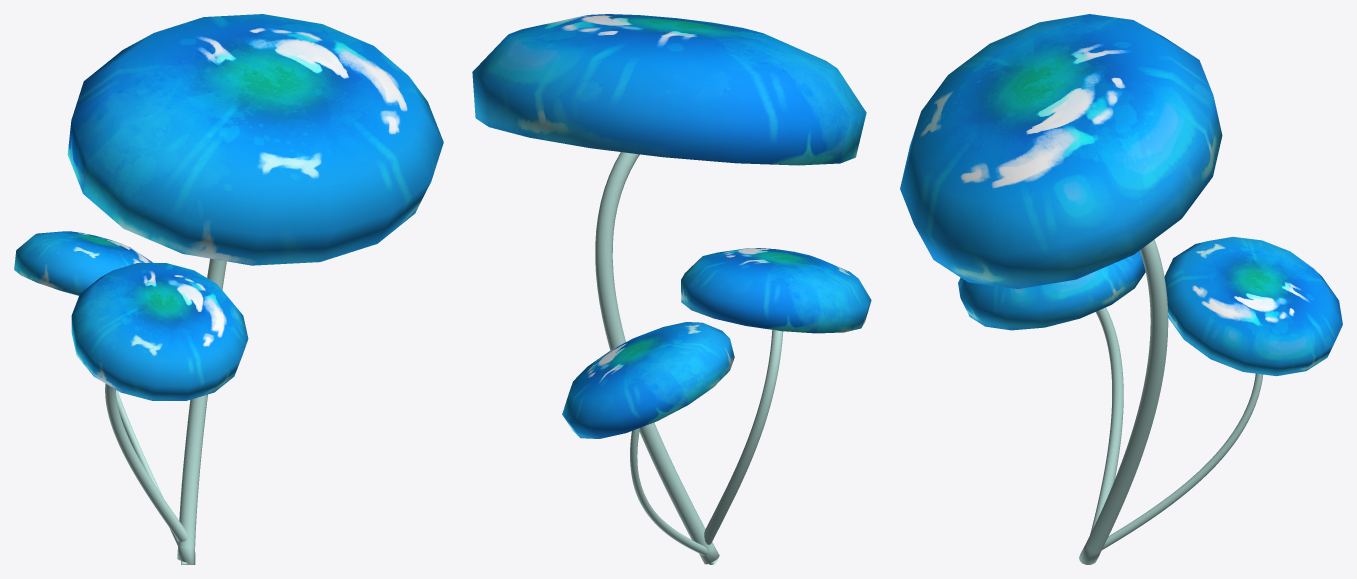
Rendered from Mushroom2.fbx.
3 views of the same model, side by side, from view 1: azimuth 30°, elevation 25°; view 2: azimuth 150°, elevation 25°; view 3: azimuth 270°, elevation 25° (orthographic). The views are drawn at different scales.
Parts seen in each view (by area): view 1: Head, Head.001, Head.002, Steel, Steel.001, Steel.002; view 2: Head, Head.002, Head.001, Steel, Steel.001, Steel.002; view 3: Head, Head.002, Head.001, Steel, Steel.001, Steel.002.
Boxes of the visible parts, left/top/right/bottom form: Head: left=67, top=14, right=443, bottom=265; Head.001: left=71, top=263, right=248, bottom=400; Head.002: left=14, top=231, right=152, bottom=295; Steel: left=177, top=258, right=226, bottom=564; Steel.001: left=105, top=383, right=187, bottom=541; Steel.002: left=116, top=390, right=178, bottom=545; Head: left=472, top=14, right=866, bottom=165; Head.002: left=562, top=322, right=734, bottom=438; Head.001: left=681, top=248, right=871, bottom=333; Steel: left=595, top=152, right=719, bottom=564; Steel.001: left=704, top=330, right=783, bottom=544; Steel.002: left=630, top=428, right=707, bottom=555; Head: left=900, top=14, right=1222, bottom=288; Head.002: left=1164, top=237, right=1342, bottom=376; Head.001: left=958, top=250, right=1145, bottom=330; Steel: left=1079, top=239, right=1168, bottom=564; Steel.001: left=1090, top=307, right=1123, bottom=534; Steel.002: left=1102, top=373, right=1262, bottom=549.
Size of the model in its own units: 142 by 197 by 150.
Materials: 4 (3 with a texture image).
